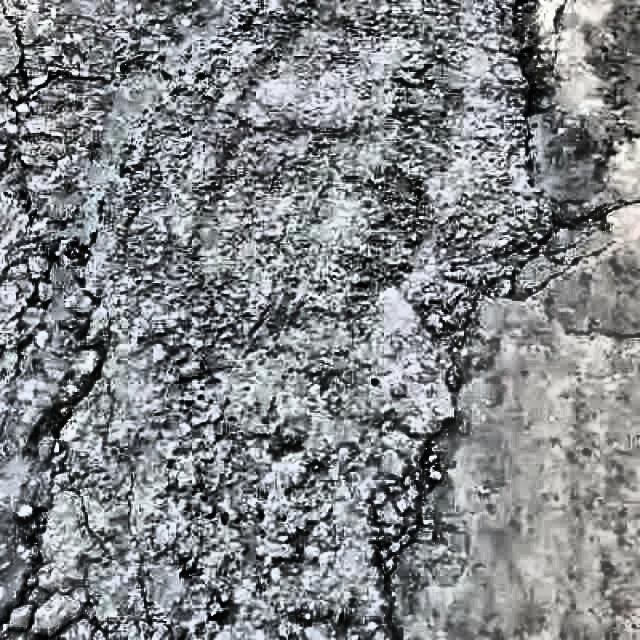buraco: (360, 14, 578, 638), (0, 48, 136, 635)
